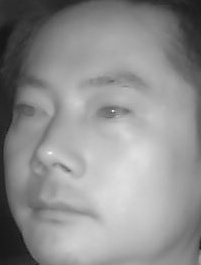eye: (90, 101, 135, 126), (10, 97, 51, 123)
mouth: (26, 189, 98, 229)
